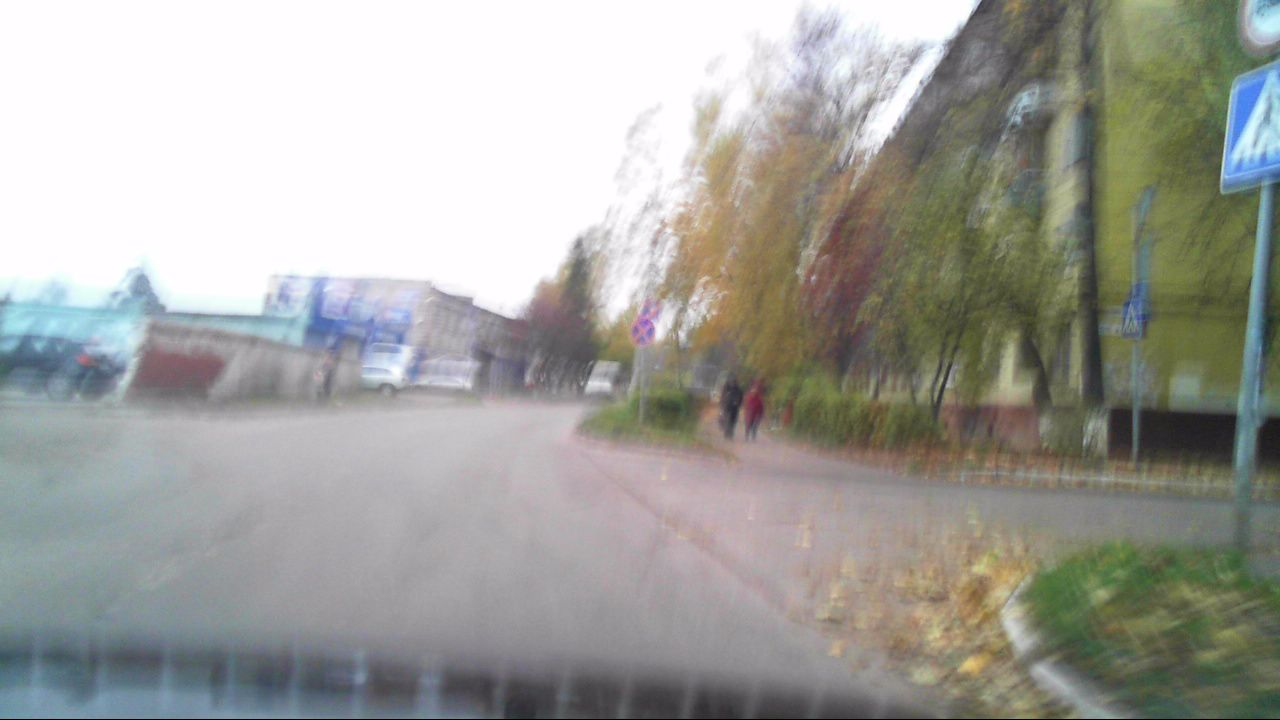No Parking: (630, 317, 655, 346)
